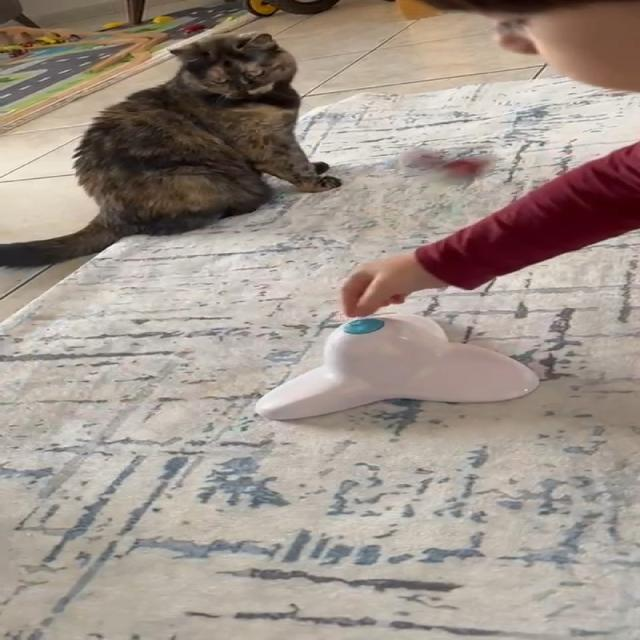authorized: (0, 30, 341, 268)
